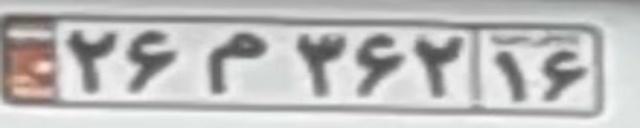1: (492, 49, 526, 102)
2: (413, 34, 463, 98), (68, 28, 117, 92)
3: (294, 33, 346, 96)
6: (351, 32, 403, 96), (126, 28, 176, 91), (539, 48, 587, 101)
mim: (203, 32, 269, 94)
